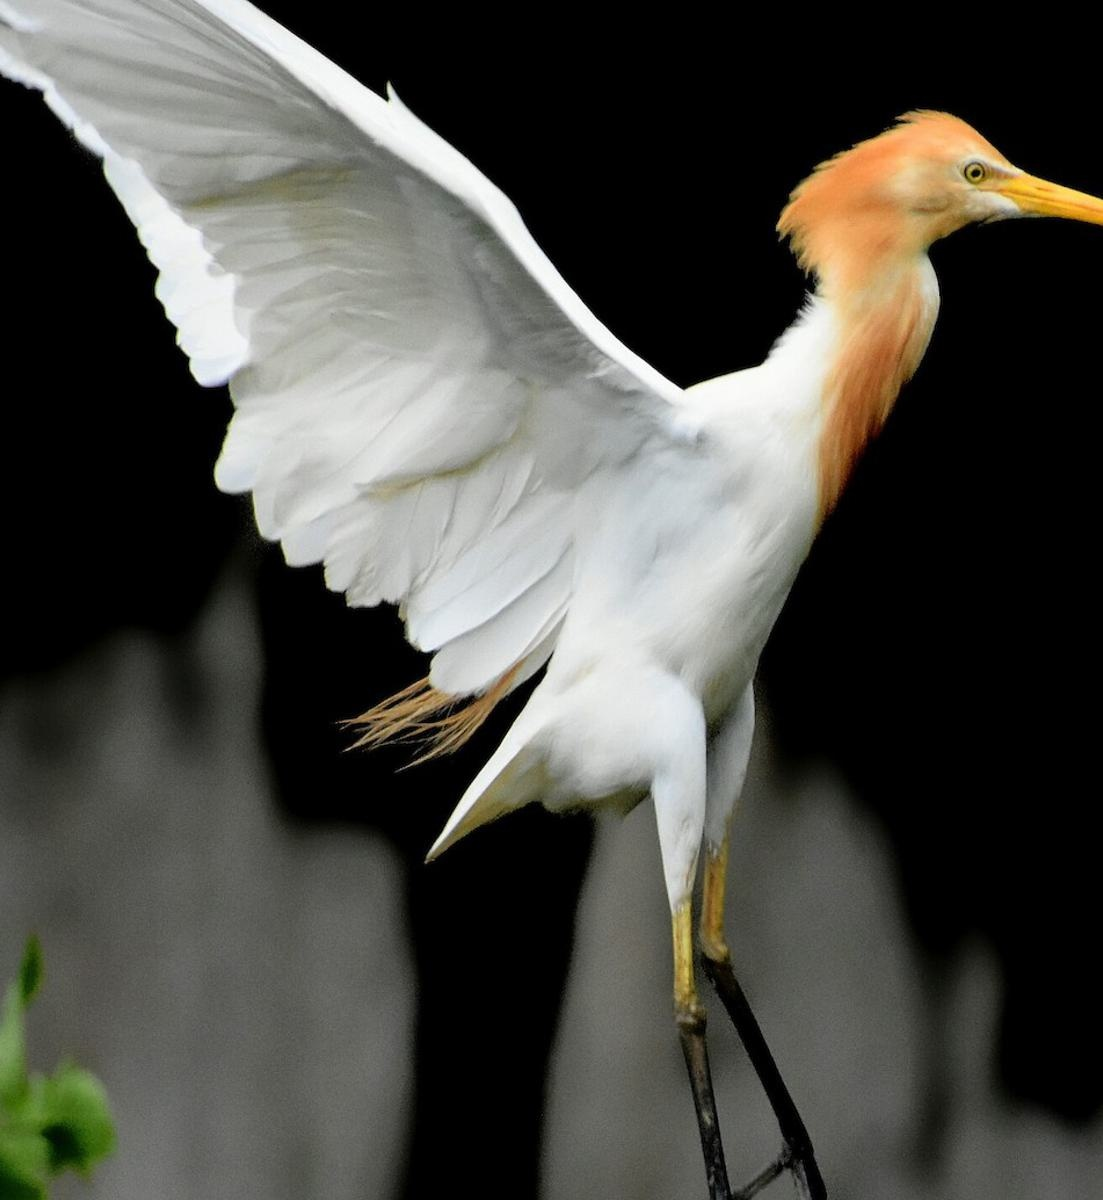egret: (1, 18, 1098, 1200)
